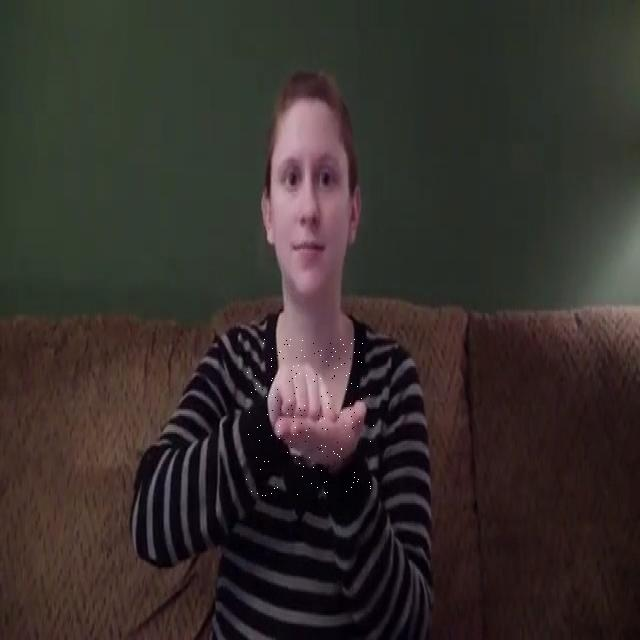chicken: (246, 338, 374, 496)
